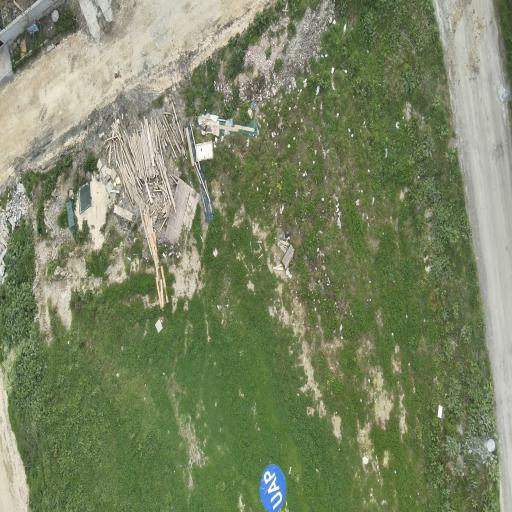uap: (259, 464, 286, 512)
